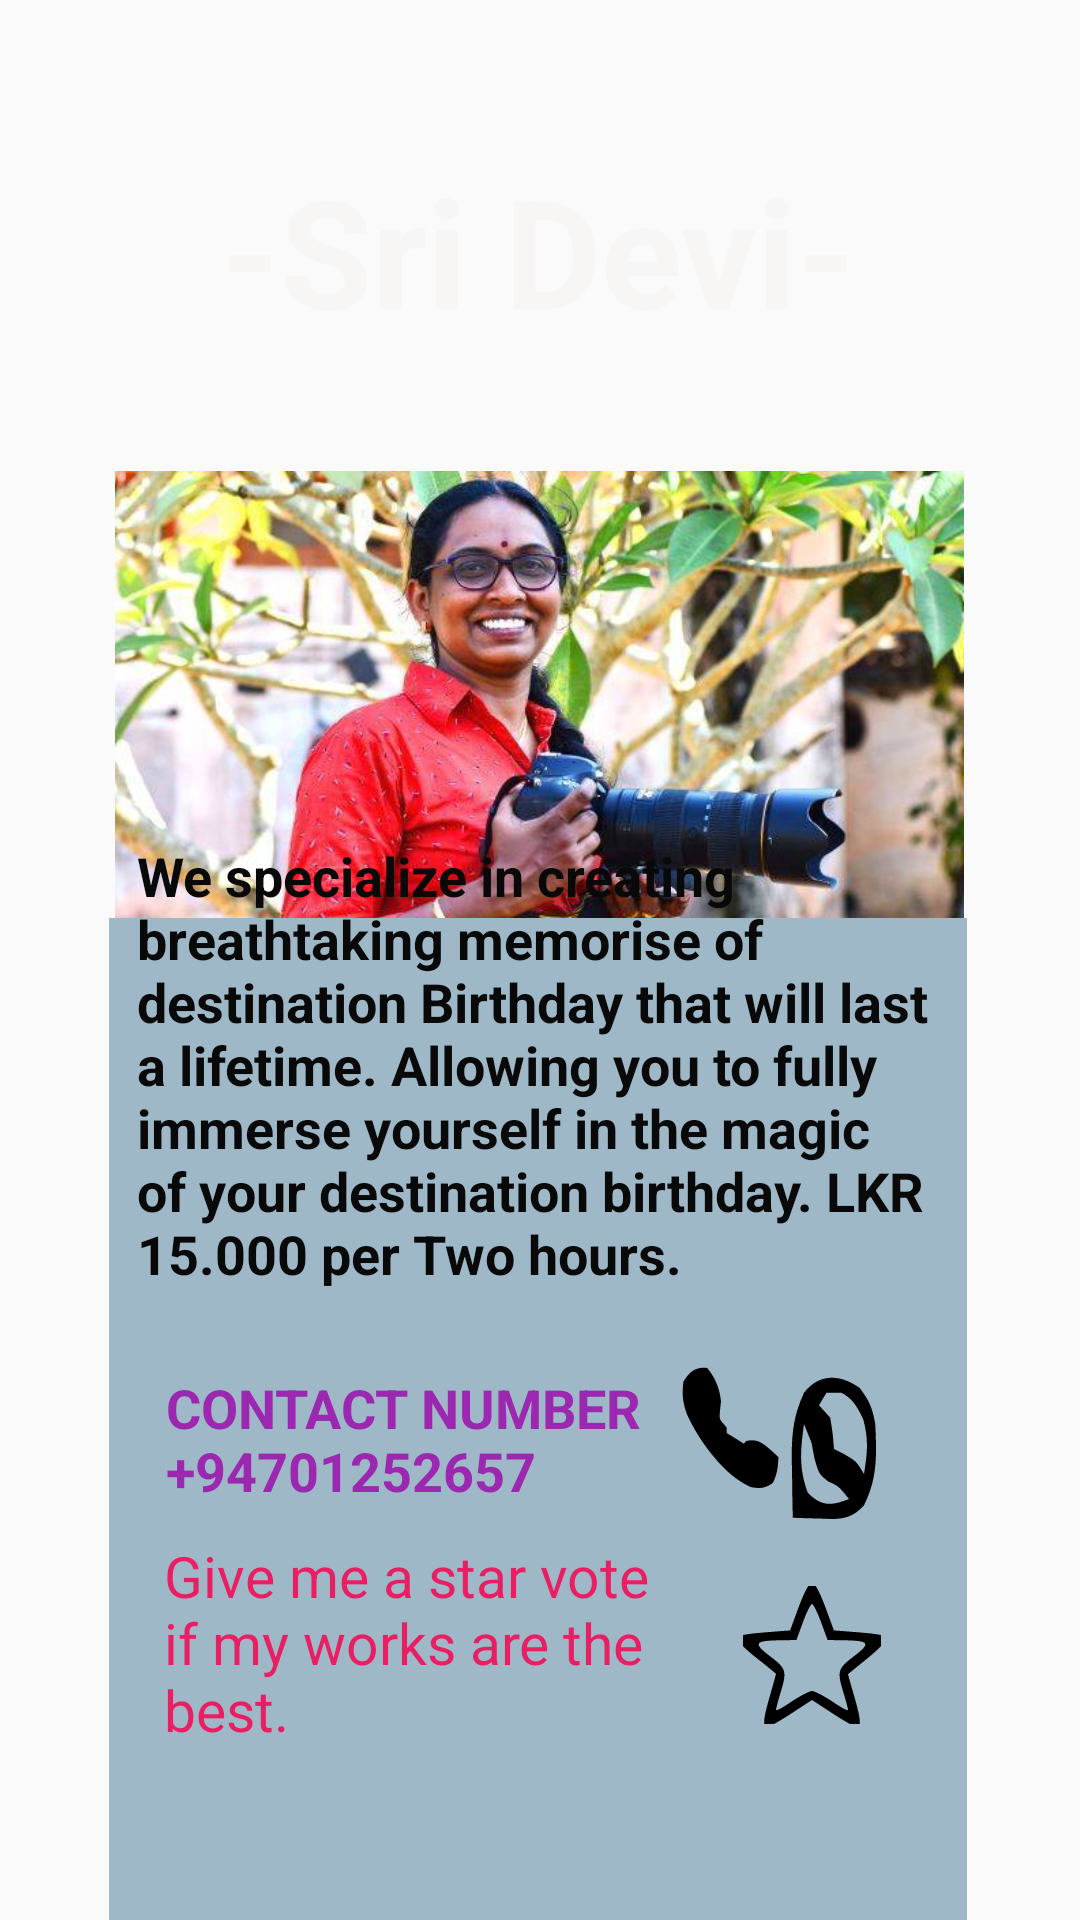

Screen size 1080px x 1920px. Icon name, then its box in pixels as region(x1, y1, x2, y2):
phone number: region(682, 1367, 779, 1488)
